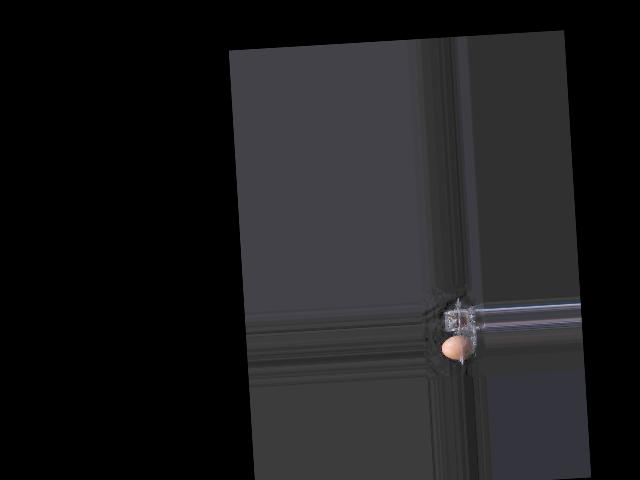egg: (441, 335, 474, 361)
